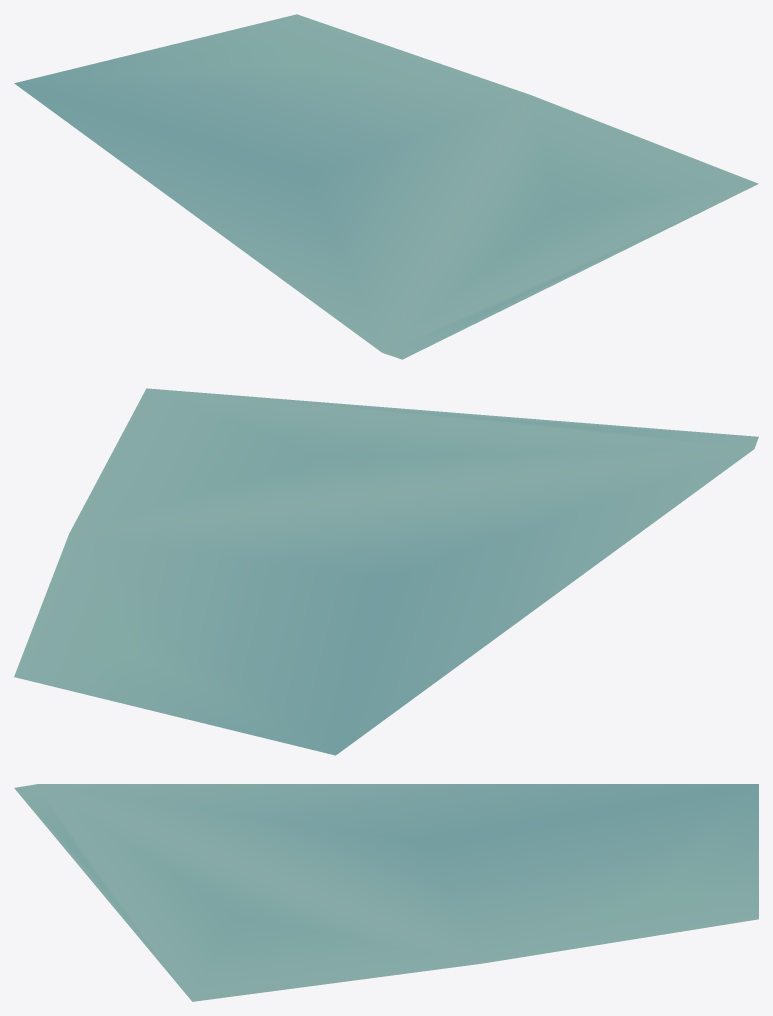
File: water-16-2.glb
3 views of the same model, one above another, from view 1: azimuth 30°, elevation 25°; view 2: azimuth 150°, elevation 25°; view 3: azimuth 270°, elevation 25° (orthographic). The views are drawn at different scales.
Bounding box in the file's own units: 3.93 × 0 × 5.68.
